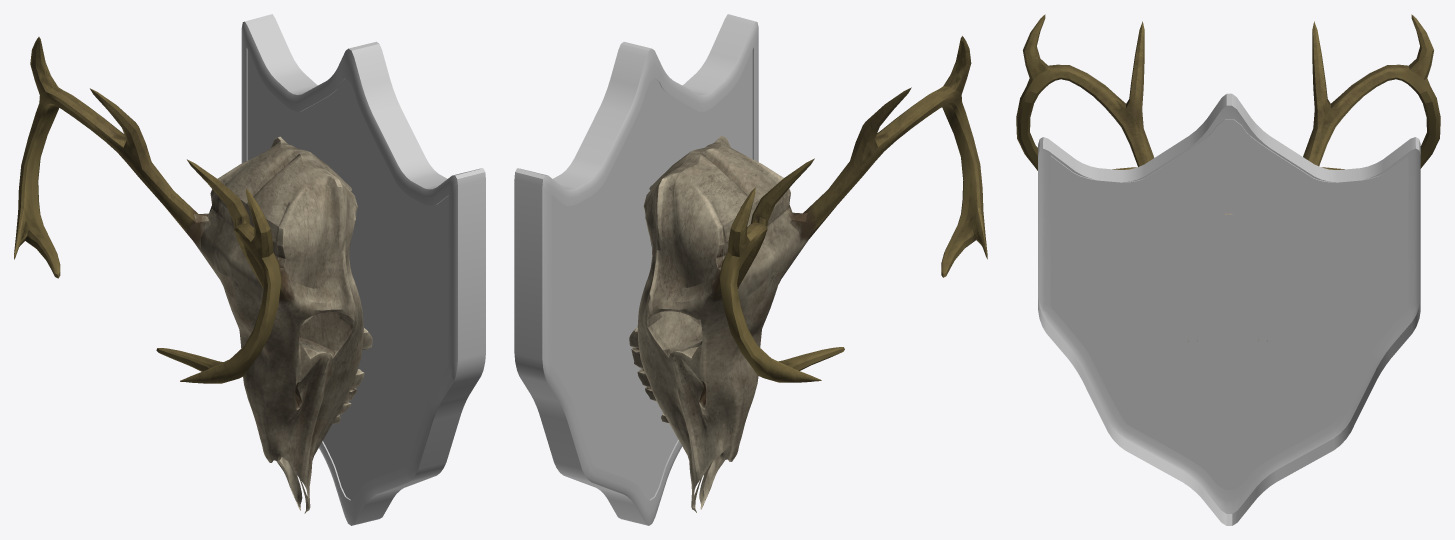
The model's file is Deer_Skull.FBX.
3 views of the same model, side by side, from view 1: azimuth 30°, elevation 25°; view 2: azimuth 150°, elevation 25°; view 3: azimuth 270°, elevation 25° (orthographic). The views are drawn at different scales.
Parts seen in each view (by area): view 1: Deer_Skull; view 2: Deer_Skull; view 3: Deer_Skull.
Boxes of the visible parts, bbox=[...] form: Deer_Skull: bbox=[14, 14, 485, 525]; Deer_Skull: bbox=[514, 14, 987, 525]; Deer_Skull: bbox=[1016, 14, 1440, 525].
Size of the model in its own units: 41.82 by 67.4 by 61.71.
